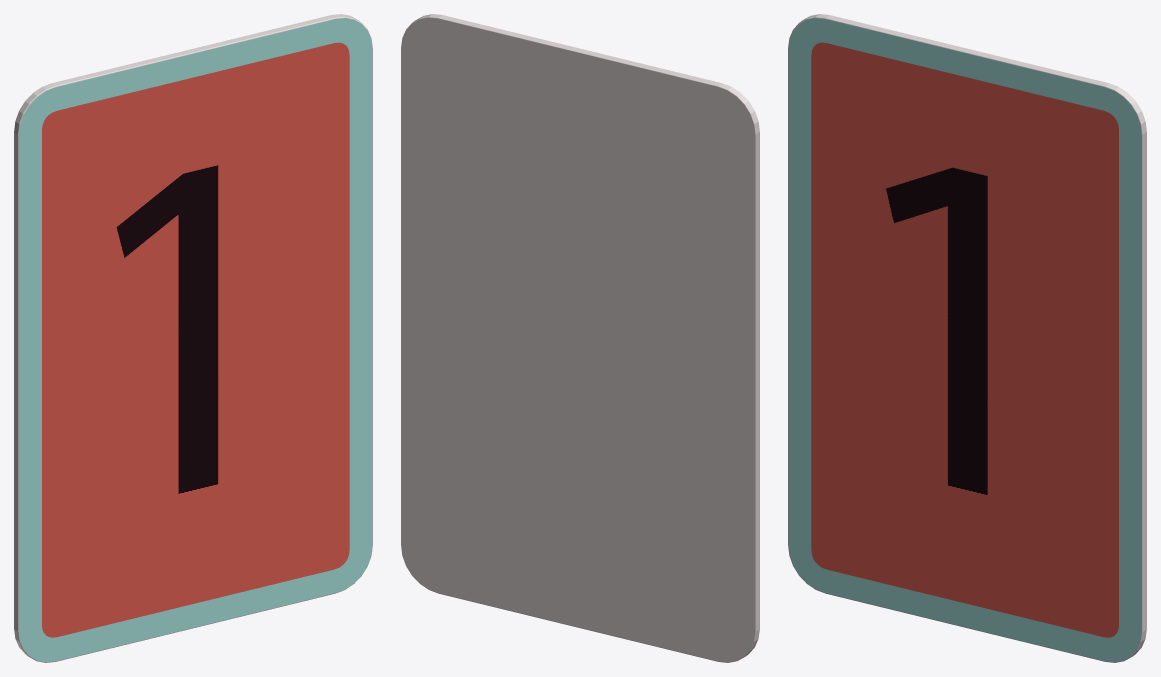
File: Hearts_14.fbx
3 renders of one model, left to right at view 1: azimuth 30°, elevation 25°; view 2: azimuth 150°, elevation 25°; view 3: azimuth 330°, elevation 25°, orthographic.
Visible parts, largest first — view 1: red1; view 2: red1; view 3: red1.
Boxes of the visible parts, left/top/right/bottom form: red1: left=14, top=14, right=372, bottom=662; red1: left=401, top=14, right=759, bottom=662; red1: left=788, top=14, right=1146, bottom=662.
Size of the model in its own units: 200 by 310 by 4.34.
3 materials, 1 textured.
